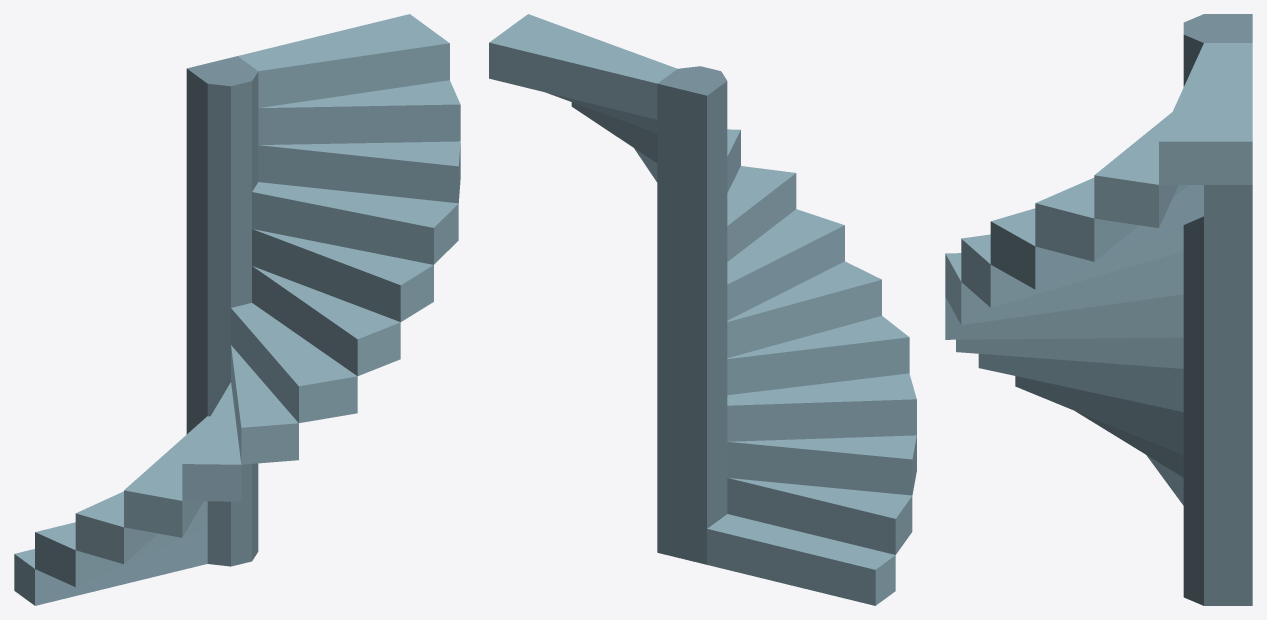
Rendered from stairsStoneRound.fbx.
The picture shows the model from 3 angles, left to right: view 1: azimuth 30°, elevation 25°; view 2: azimuth 150°, elevation 25°; view 3: azimuth 270°, elevation 25°; orthographic projection. The views are drawn at different scales.
Parts seen in each view (by area): view 1: stairsStoneRound; view 2: stairsStoneRound; view 3: stairsStoneRound.
Boxes of the visible parts, x1=… form: stairsStoneRound: x1=14, y1=14, x2=460, y2=605; stairsStoneRound: x1=489, y1=14, x2=916, y2=605; stairsStoneRound: x1=945, y1=14, x2=1252, y2=605.
Size of the model in its own units: 8.62 by 10 by 4.95.
